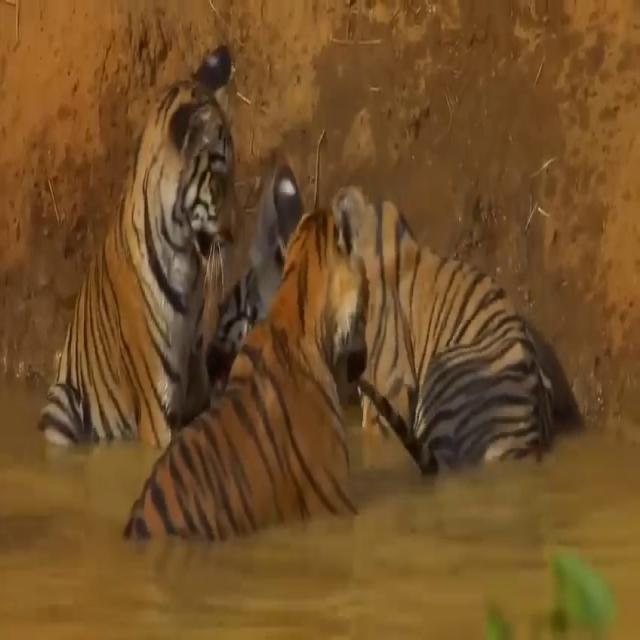tiger: (36, 40, 240, 450)
